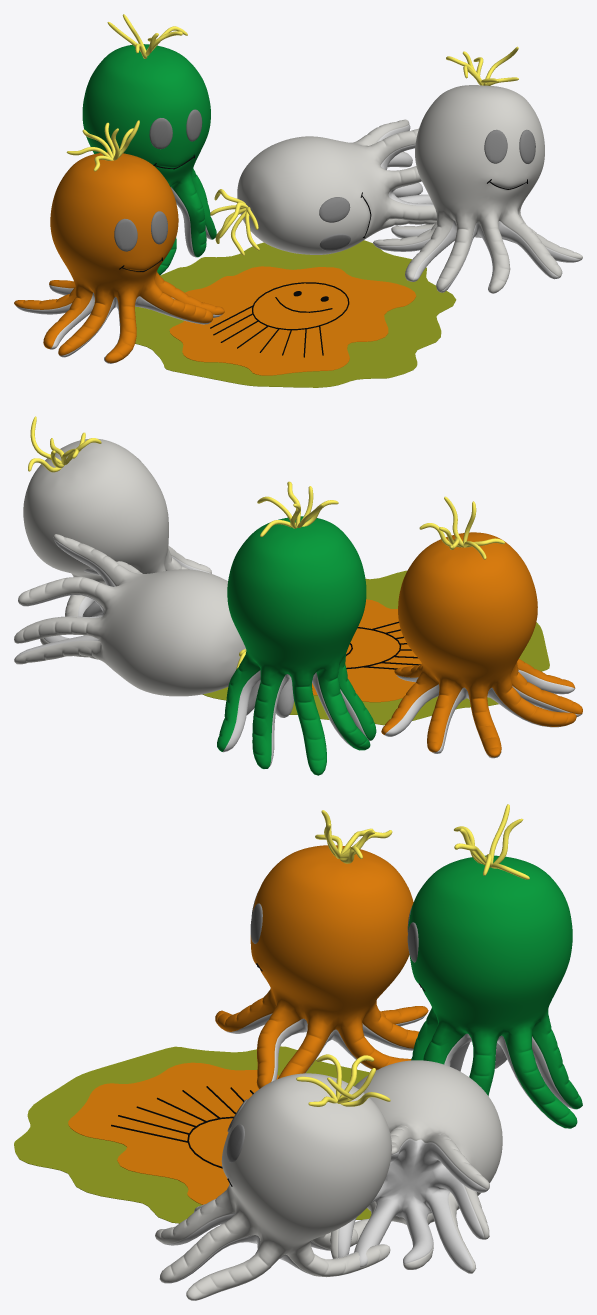
The model's file is osminogs.FBX.
3 views of the same model, one above another, from view 1: azimuth 30°, elevation 25°; view 2: azimuth 150°, elevation 25°; view 3: azimuth 270°, elevation 25° (orthographic). The views are drawn at different scales.
Parts seen in each view (by area): view 1: osminog_picture_attached, osminog_violet_attached, osminog_yellow_attached, osminog_blue_attached, osminog_green_attached; view 2: osminog_green_attached, osminog_yellow_attached, osminog_blue_attached, osminog_violet_attached, osminog_picture_attached; view 3: osminog_green_attached, osminog_violet_attached, osminog_yellow_attached, osminog_picture_attached, osminog_blue_attached.
Boxes of the visible parts, left/top/right/bottom form: osminog_picture_attached: left=135, top=240, right=456, bottom=387; osminog_violet_attached: left=373, top=46, right=582, bottom=293; osminog_yellow_attached: left=14, top=120, right=224, bottom=363; osminog_blue_attached: left=210, top=119, right=436, bottom=255; osminog_green_attached: left=82, top=14, right=216, bottom=275; osminog_green_attached: left=217, top=481, right=376, bottom=775; osminog_yellow_attached: left=381, top=496, right=582, bottom=758; osminog_blue_attached: left=14, top=534, right=246, bottom=696; osminog_violet_attached: left=23, top=416, right=211, bottom=634; osminog_picture_attached: left=202, top=570, right=549, bottom=725; osminog_green_attached: left=407, top=804, right=582, bottom=1128; osminog_violet_attached: left=155, top=1054, right=391, bottom=1300; osminog_yellow_attached: left=215, top=810, right=428, bottom=1088; osminog_picture_attached: left=14, top=1046, right=371, bottom=1223; osminog_blue_attached: left=330, top=1060, right=502, bottom=1273.
Bounding box in the file's own units: 389 × 174 × 309.
